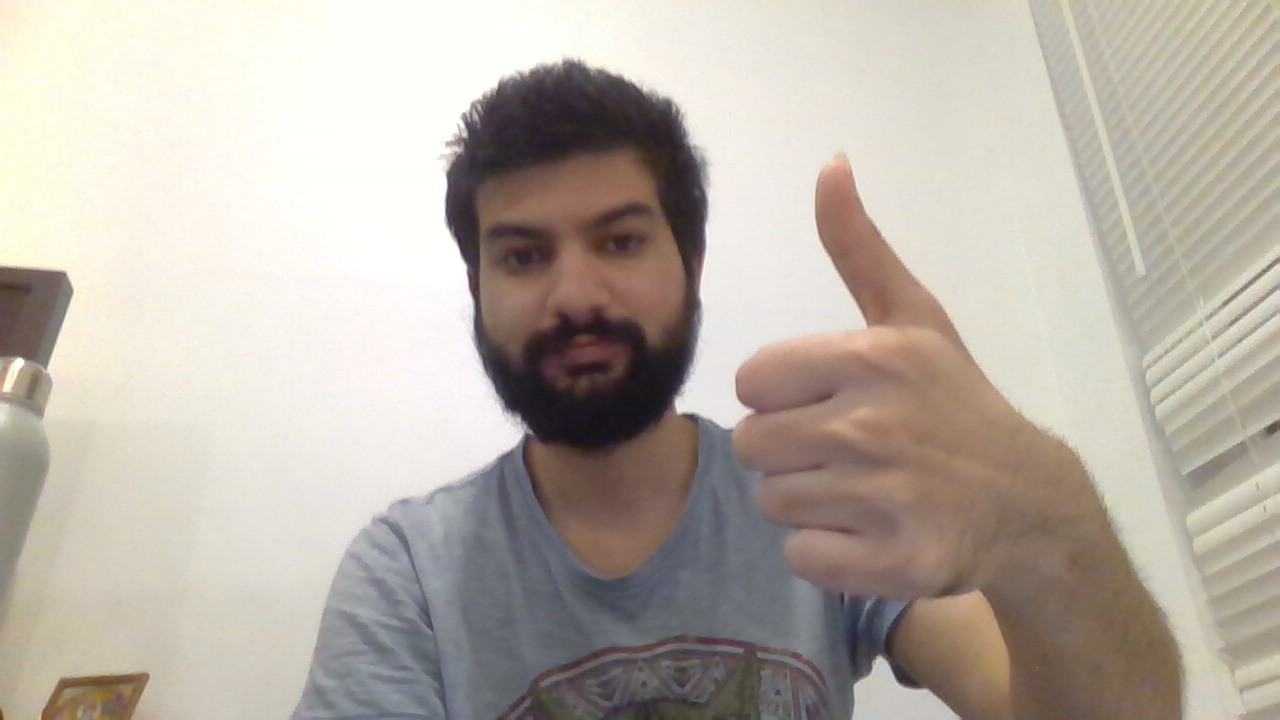up: (729, 147, 991, 602)
